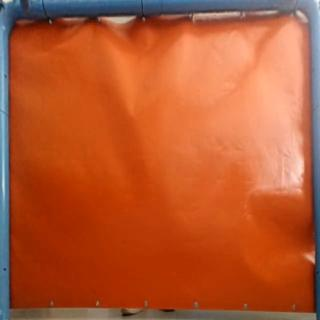Hit-hRxx: (126, 106, 139, 118)
